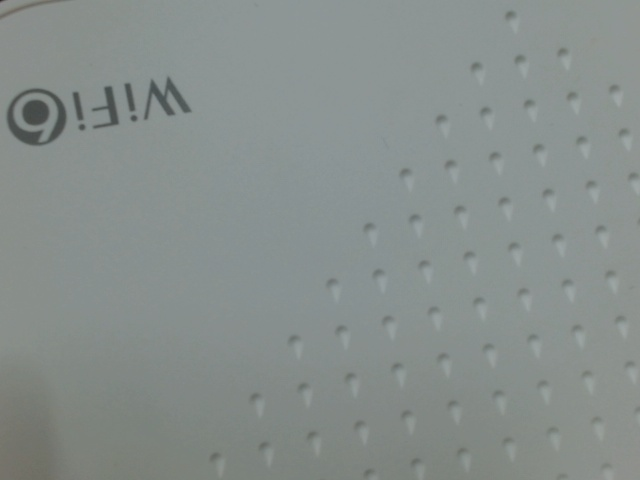AK_ZTEWIFI6: (2, 71, 194, 153)
